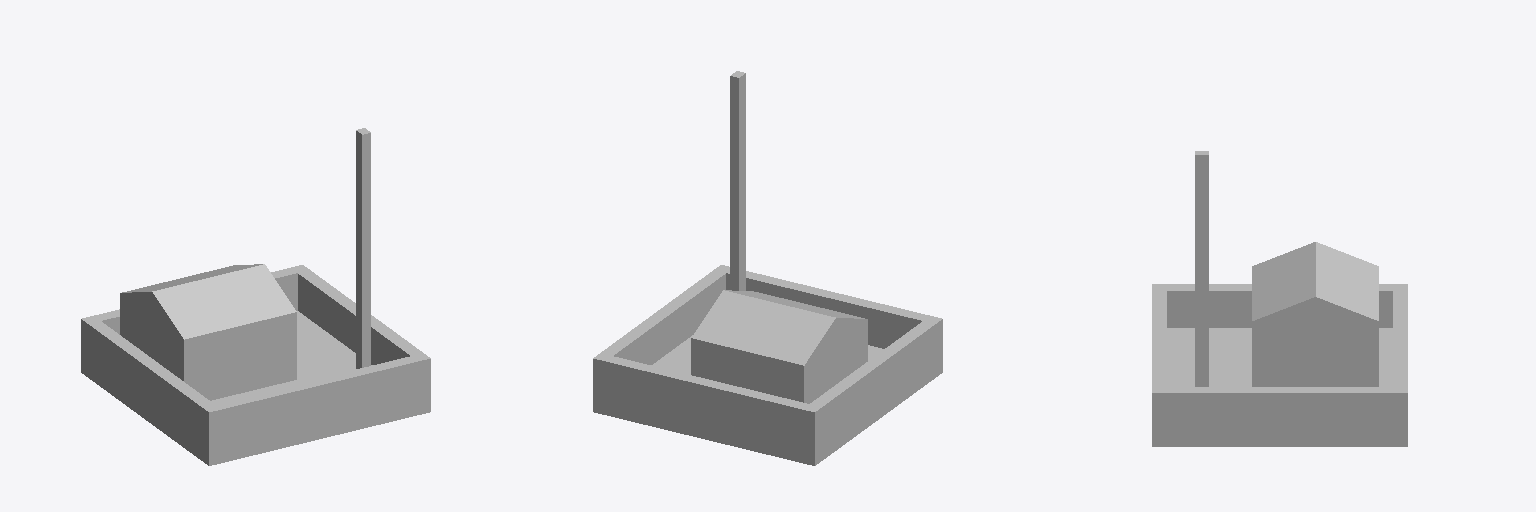
Rendered from house1.obj.
The picture shows the model from 3 angles: view 1: azimuth 30°, elevation 25°; view 2: azimuth 150°, elevation 25°; view 3: azimuth 270°, elevation 25°; orthographic projection.
Parts seen in each view (by area): view 1: SketchUp.003_ID22; view 2: SketchUp.003_ID22; view 3: SketchUp.003_ID22.
Part boxes in pixels (left/top/right/bottom): SketchUp.003_ID22: left=81, top=128, right=430, bottom=465; SketchUp.003_ID22: left=593, top=71, right=942, bottom=465; SketchUp.003_ID22: left=1152, top=151, right=1407, bottom=446.
Bounding box in the file's own units: 1.22 × 1.43 × 1.22.